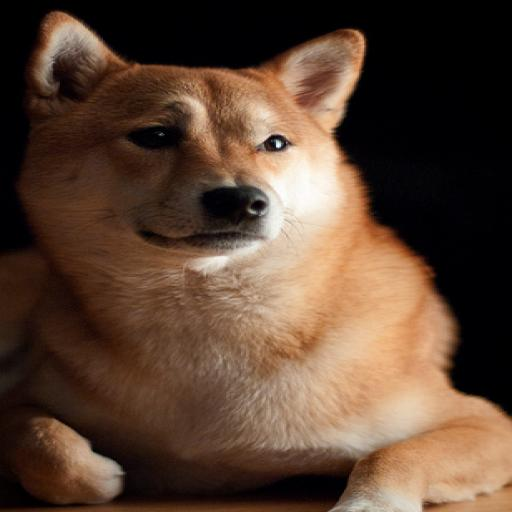dog_face: (17, 20, 345, 258)
